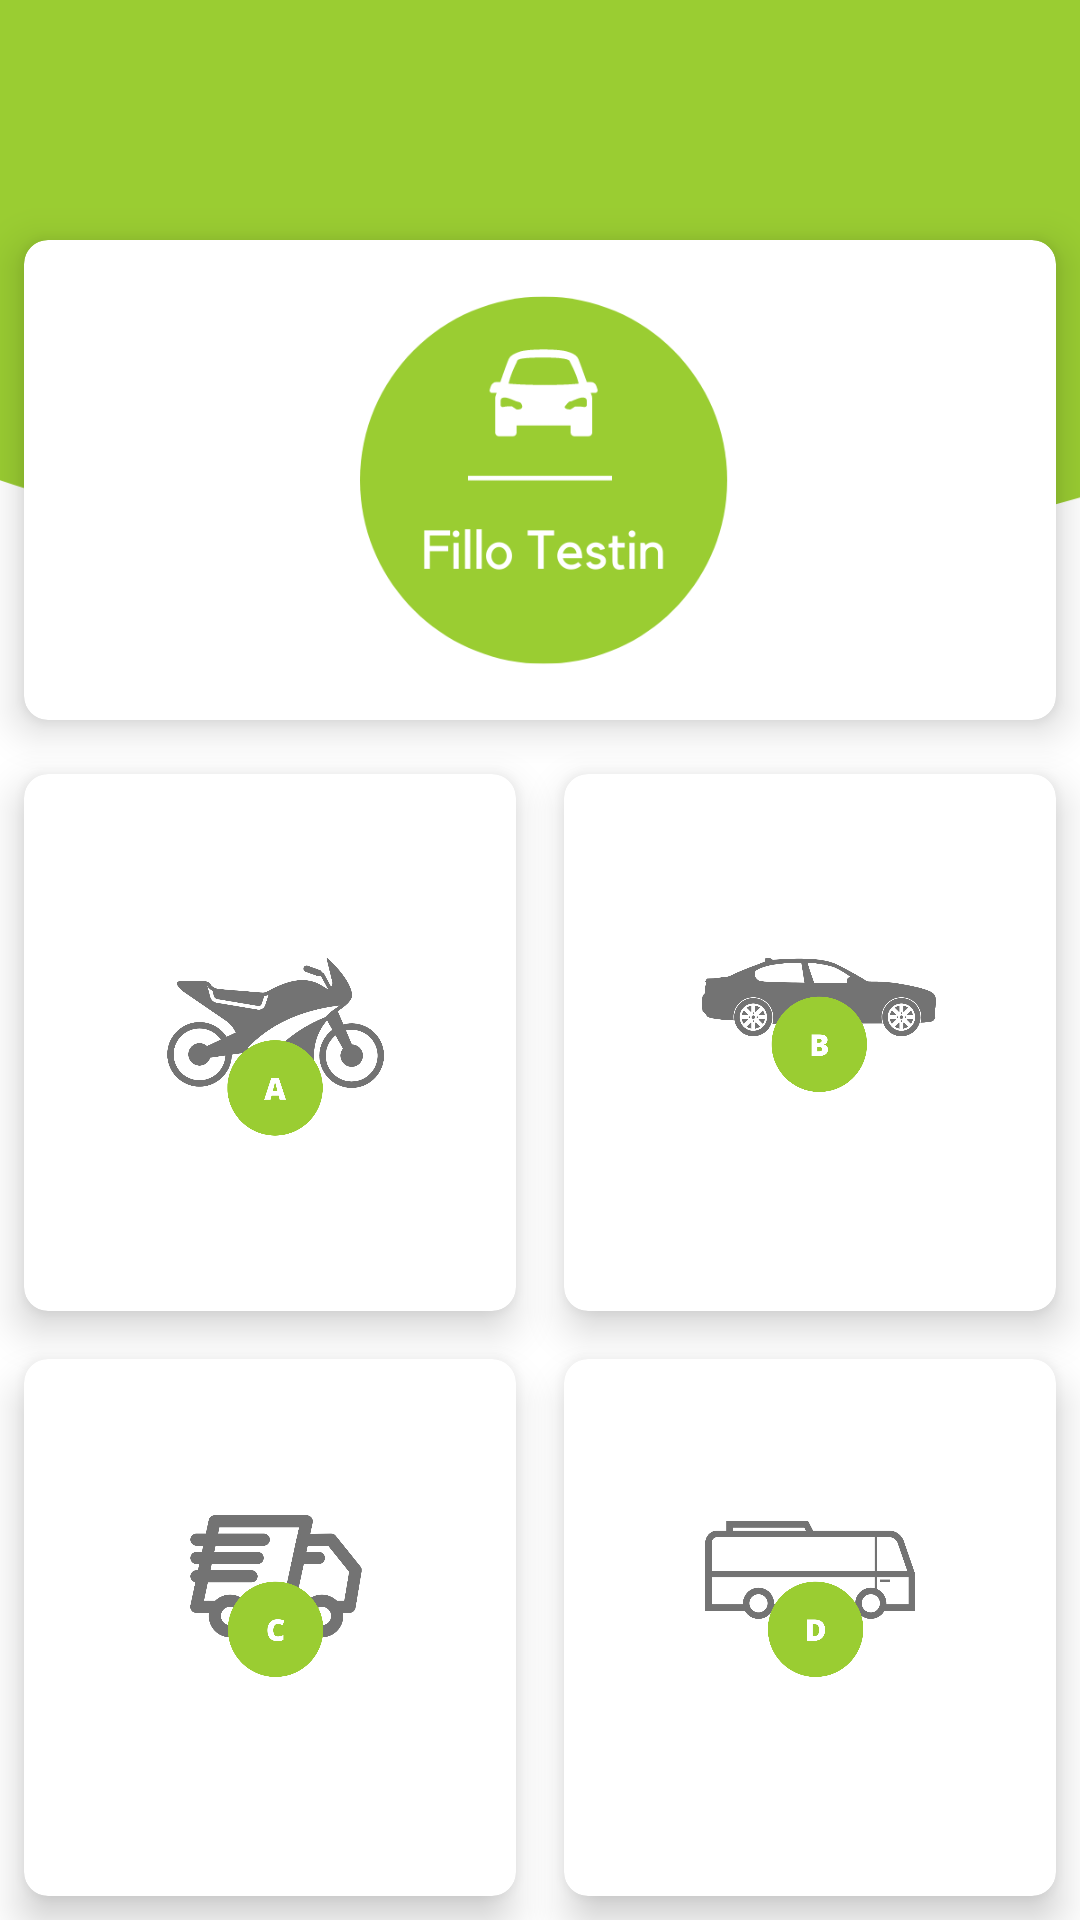

Where icons sit on this 1080 x 1920 app screen, as (x1, y1, x2, y2):
bus: (705, 1521, 915, 1677)
car: (702, 958, 936, 1092)
motorcycle: (167, 958, 384, 1136)
truck: (190, 1515, 362, 1677)
